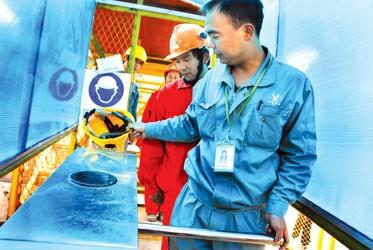helmet: (84, 108, 136, 150), (164, 24, 211, 62), (125, 46, 148, 64), (165, 63, 182, 76)
